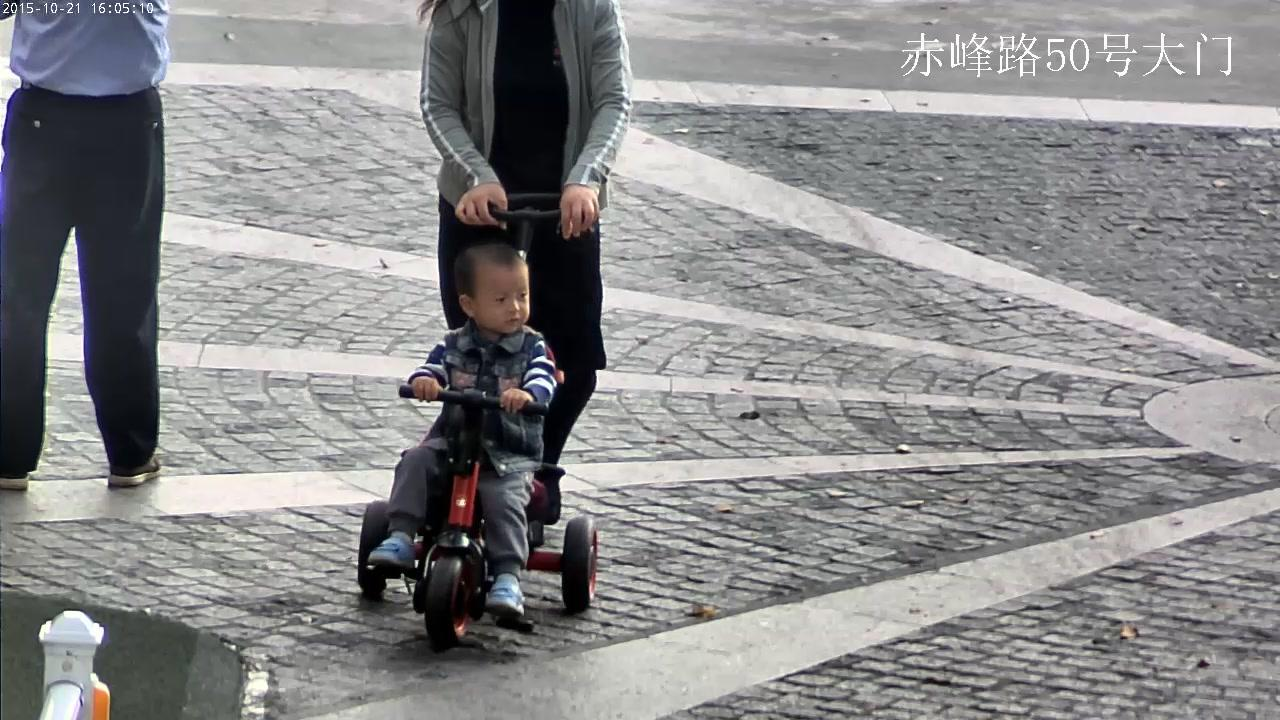face: (473, 265, 529, 333)
